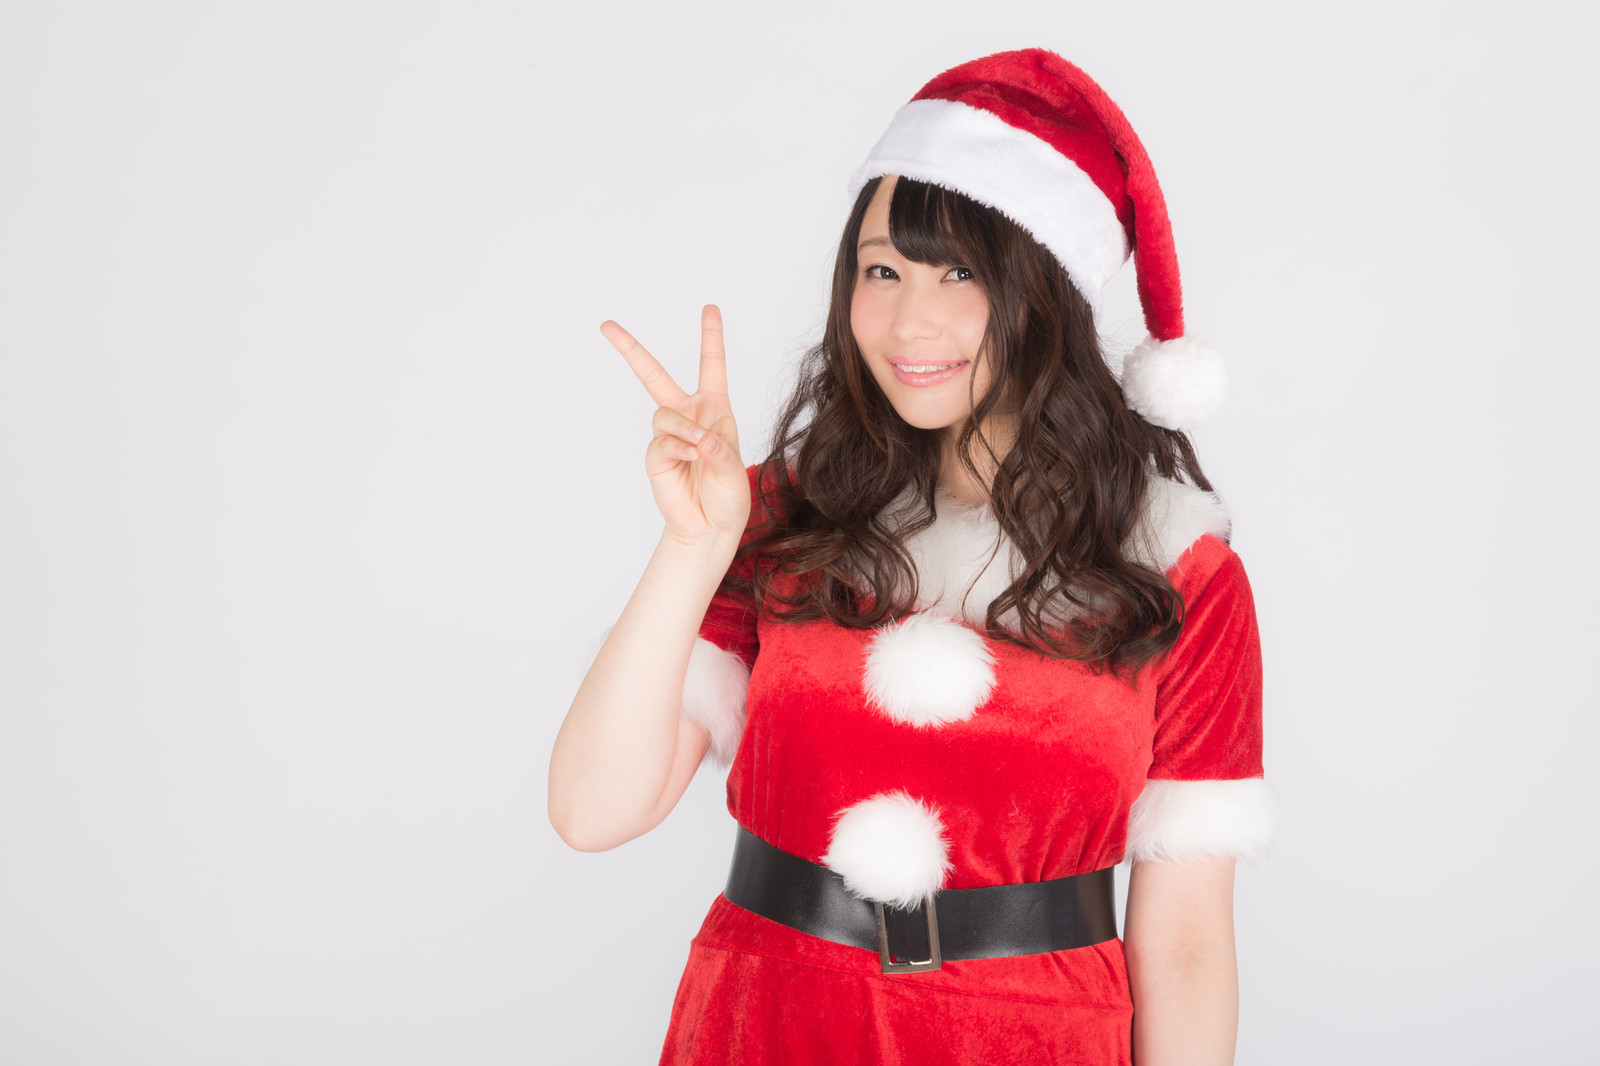face: (847, 174, 1011, 429)
hand: (595, 300, 754, 547)
